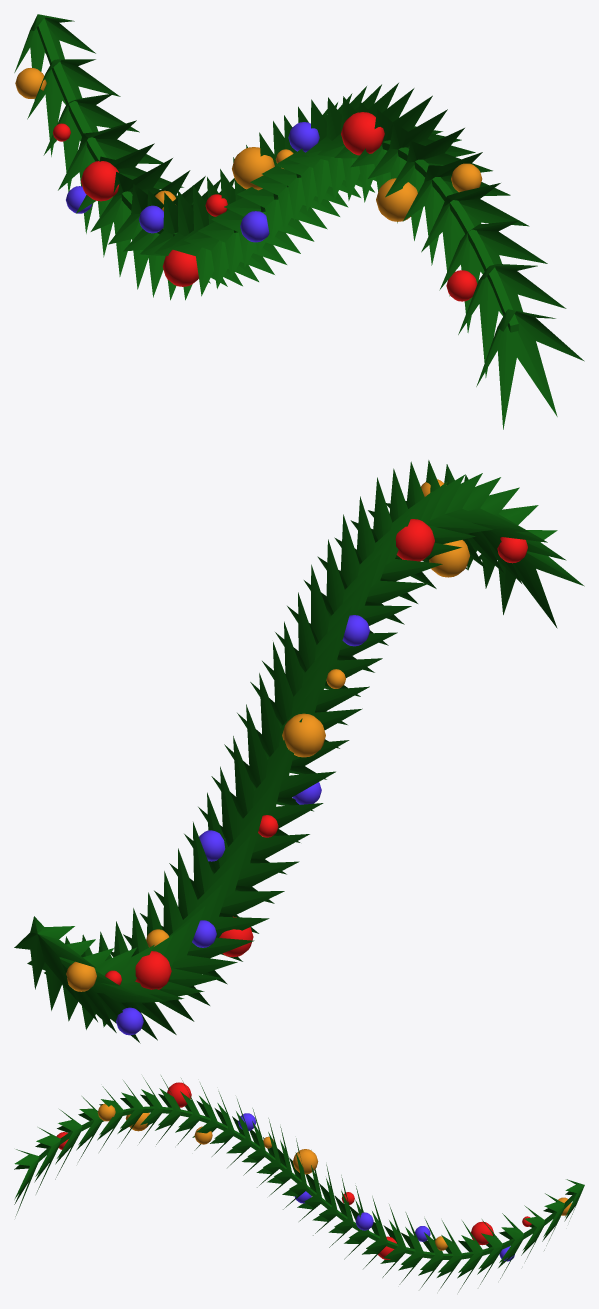
The model's file is christmas deco1.FBX.
3 views of the same model, one above another, from view 1: azimuth 30°, elevation 25°; view 2: azimuth 150°, elevation 25°; view 3: azimuth 270°, elevation 25° (orthographic). The views are drawn at different scales.
Parts seen in each view (by area): view 1: Object380; view 2: Object380; view 3: Object380.
Part boxes in pixels (<box>): Object380: <box>14,14,584,429</box>; Object380: <box>14,460,584,1043</box>; Object380: <box>14,1076,584,1292</box>.
Size of the model in its own units: 0.6442 by 1.89 by 4.72.
